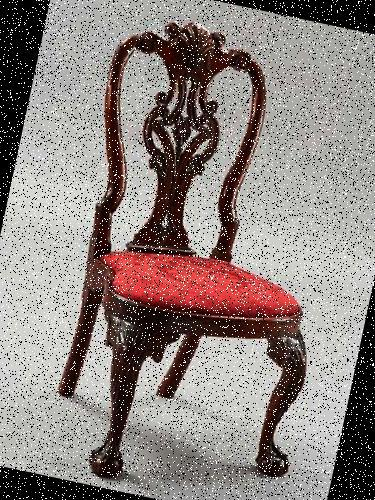Silla: (22, 9, 374, 499)
